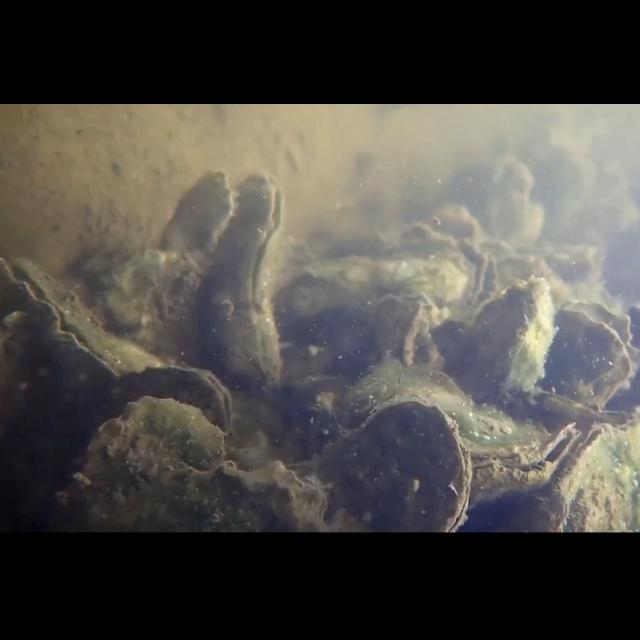Oyster-Closed: (106, 166, 238, 358), (72, 393, 236, 517), (458, 277, 554, 399), (281, 256, 467, 318), (384, 223, 476, 309), (370, 294, 442, 374)
Oyster-Open: (316, 369, 582, 506), (0, 254, 164, 404), (310, 398, 474, 536), (198, 171, 288, 385), (88, 458, 330, 536), (532, 406, 640, 536), (534, 298, 632, 412), (122, 362, 238, 438), (454, 237, 498, 313)
